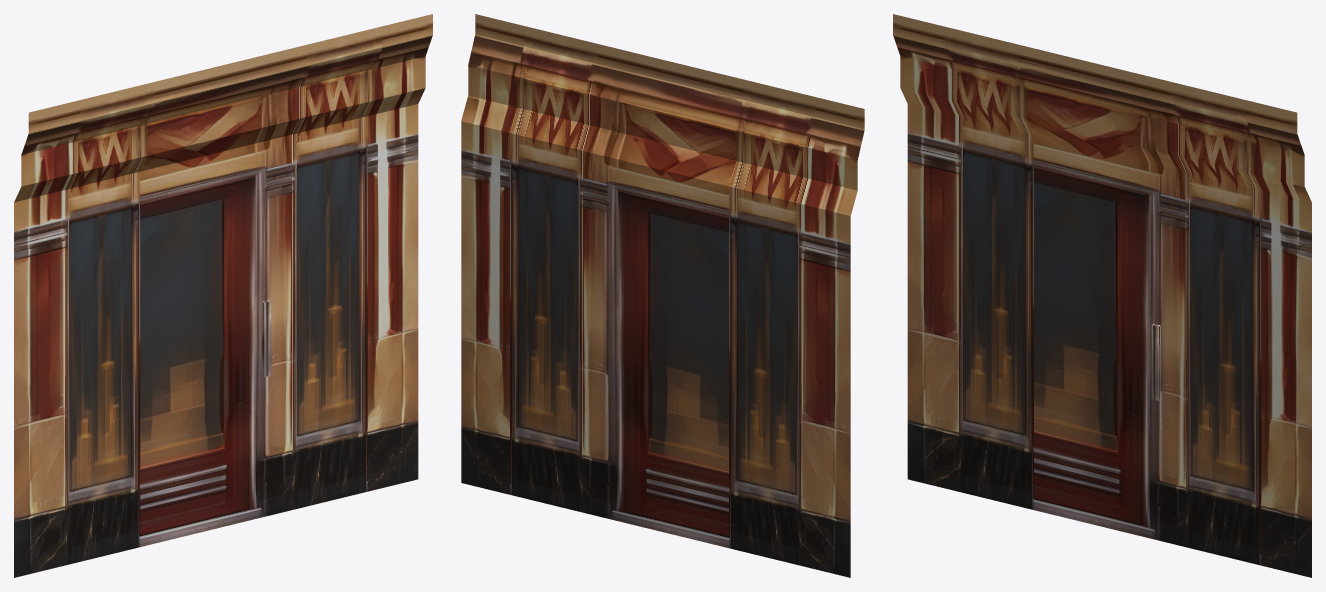
File: DECO_G_Bay4B.fbx
3 views of the same model, side by side, from view 1: azimuth 30°, elevation 25°; view 2: azimuth 150°, elevation 25°; view 3: azimuth 330°, elevation 25° (orthographic). The views are drawn at different scales.
Visible parts, largest first — view 1: DECO_G_Bay4B; view 2: DECO_G_Bay4B; view 3: DECO_G_Bay4B.
Part boxes in pixels (box(x1,y1,x2,y2)): DECO_G_Bay4B: box(14, 14, 432, 577); DECO_G_Bay4B: box(461, 14, 864, 577); DECO_G_Bay4B: box(893, 14, 1311, 577).
Size of the model in its own units: 4 by 0.25 by 4.5.
1 material, 1 textured.
